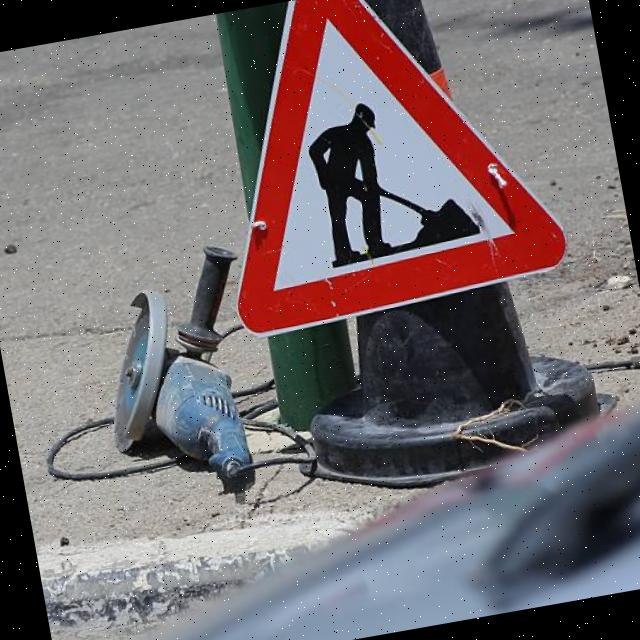road_work: (172, 0, 575, 333)
